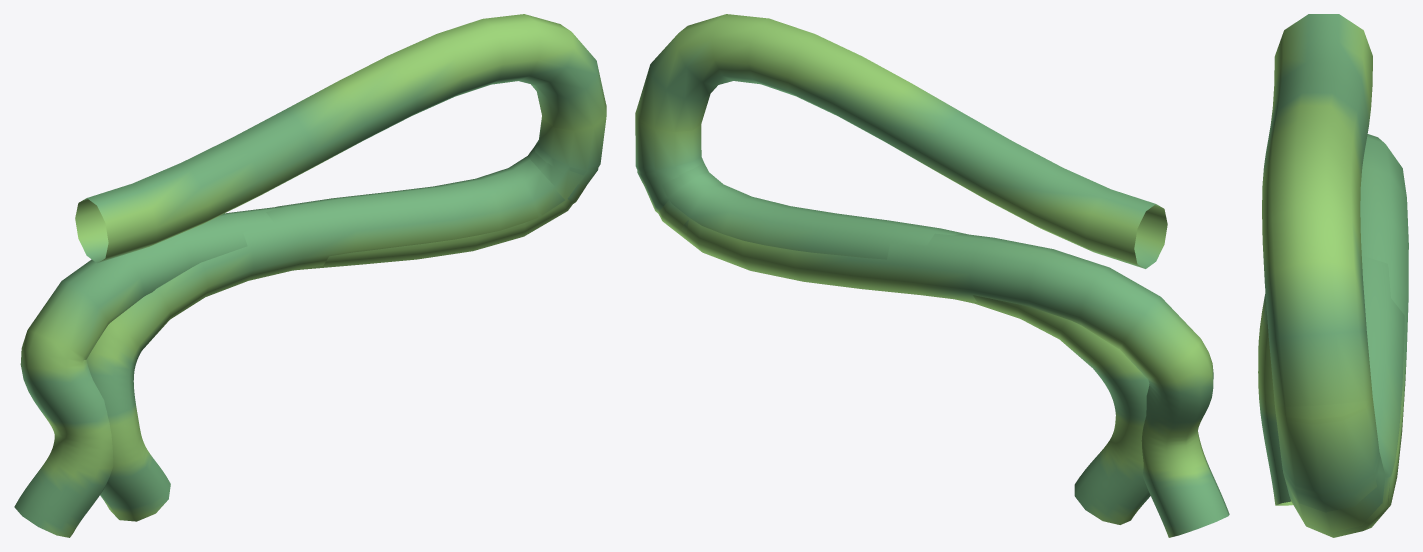
File: limbs_arm_tentacle.glb
3 renders of one model, left to right at view 1: azimuth 30°, elevation 25°; view 2: azimuth 150°, elevation 25°; view 3: azimuth 270°, elevation 25°, orthographic. The views are drawn at different scales.
Visible parts, largest first — view 1: arm_tentacle_R, arm_tentacle_L; view 2: arm_tentacle_L, arm_tentacle_R; view 3: arm_tentacle_L, arm_tentacle_R.
Part boxes in pixels (<box>): arm_tentacle_R: <box>75,34,606,521</box>; arm_tentacle_L: <box>14,14,606,537</box>; arm_tentacle_L: <box>635,14,1229,537</box>; arm_tentacle_R: <box>635,34,1167,524</box>; arm_tentacle_L: <box>1258,14,1408,537</box>; arm_tentacle_R: <box>1258,41,1404,532</box>.
Bounding box in the file's own units: 1.21 × 0.8079 × 0.1839.
